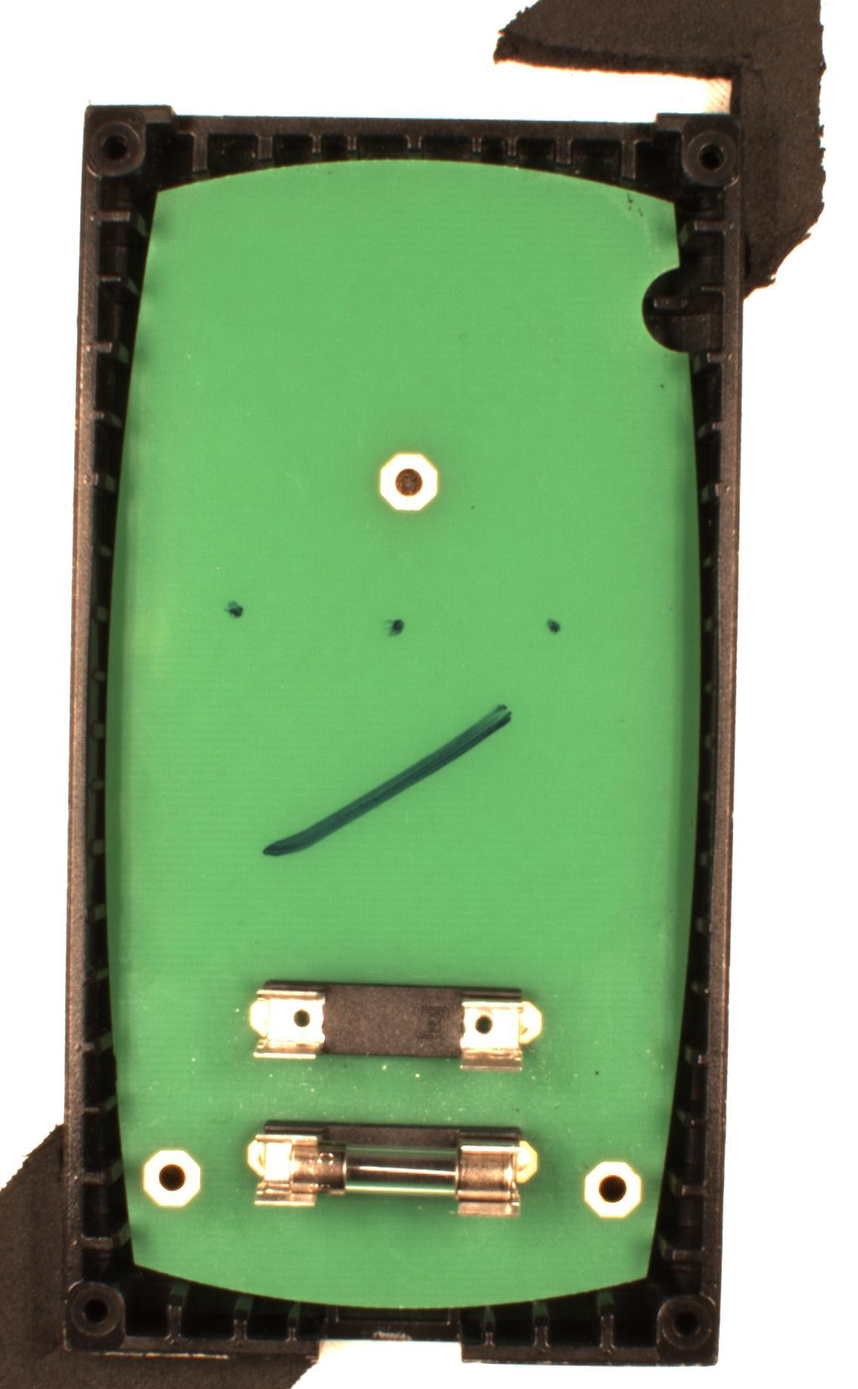Linijsko Ostecene: (261, 703, 514, 858)
Nepostojanje osiguraca: (247, 978, 544, 1074)
Tockasto Ostecenje: (223, 599, 247, 622), (386, 618, 404, 637), (547, 618, 562, 634)
